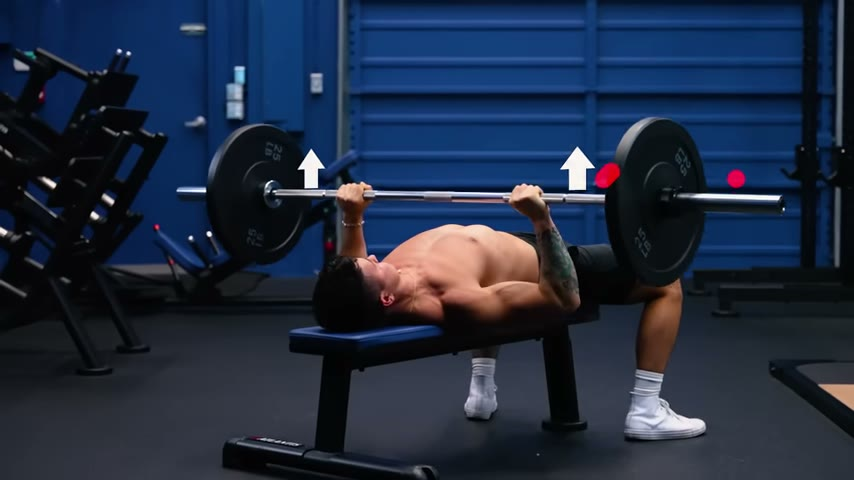barbell_plate_side: (656, 101, 796, 301), (213, 114, 333, 298)
